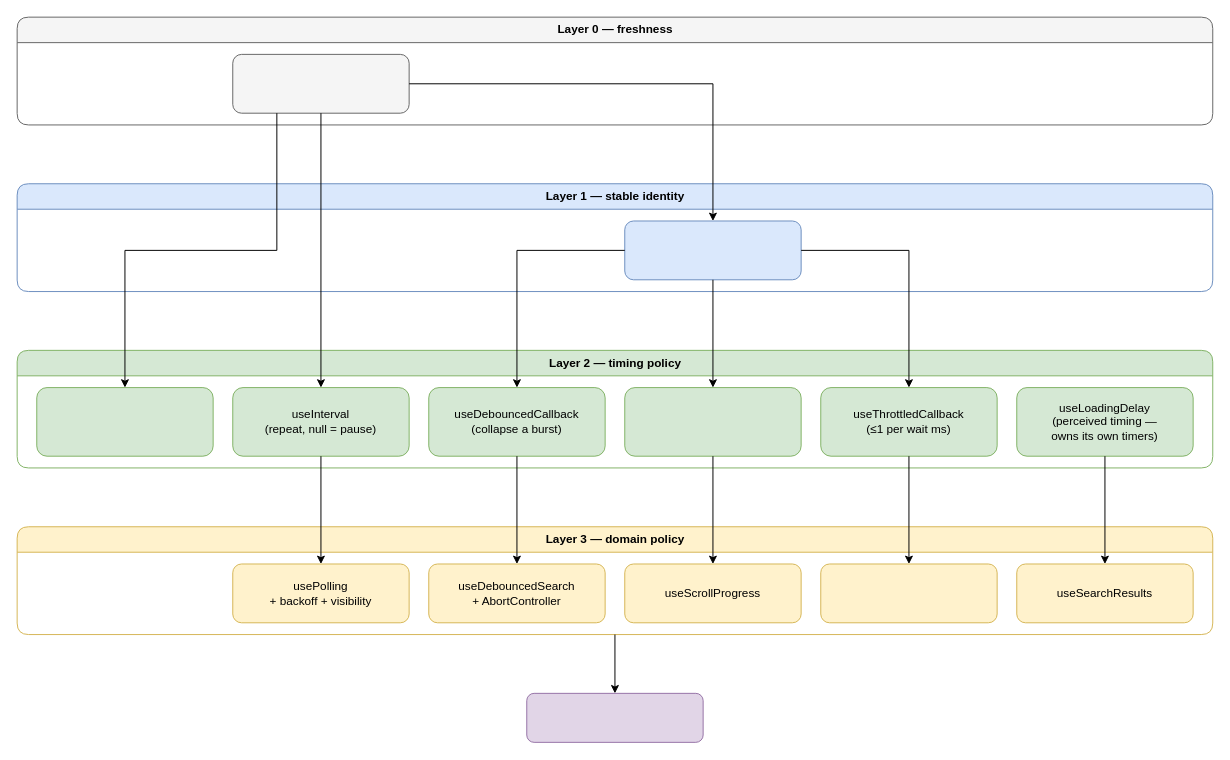
Some shapes in this 1230 by 760 pixel diagram are drawn without their labels. Here are the shapes that lost their labels. From the top down, the centre of each, then its label:
At pixel 320 83: "useLatestRef<T>() ref updated in a layout effect".
At pixel 712 250: "useEventCallback() same identity, newest body".
At pixel 124 421: "useTimeout (fire once, later)".
At pixel 712 421: "useFrameThrottledCallback (≤1 per repaint)".
At pixel 908 593: "useTypingPresence".
At pixel 614 717: "Components".
